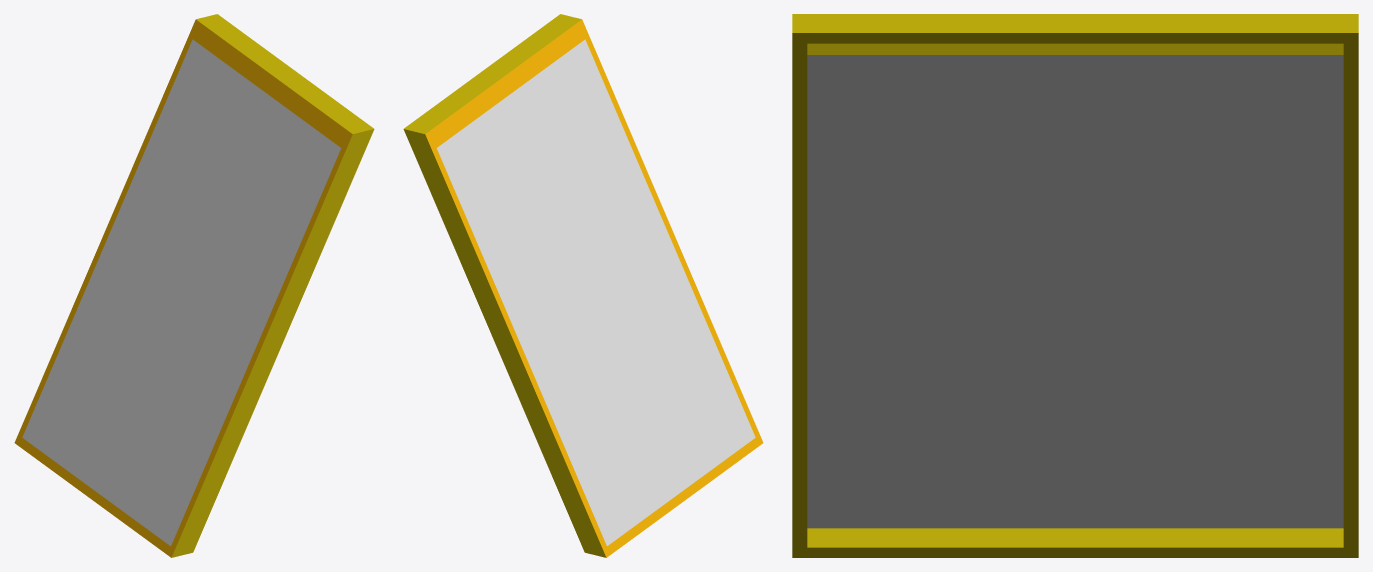
File: 709_window_front_center.dae
3 renders of one model, left to right at view 1: azimuth 30°, elevation 25°; view 2: azimuth 150°, elevation 25°; view 3: azimuth 270°, elevation 25°, orthographic. The views are drawn at different scales.
Visible parts, largest first — view 1: Cube; view 2: Cube; view 3: Cube.
Part boxes in pixels (x1,y1,x2,y2): Cube: (14, 14, 374, 557); Cube: (403, 14, 763, 557); Cube: (792, 14, 1358, 557).
Bounding box in the file's own units: 0.56 × 0.75 × 1.
